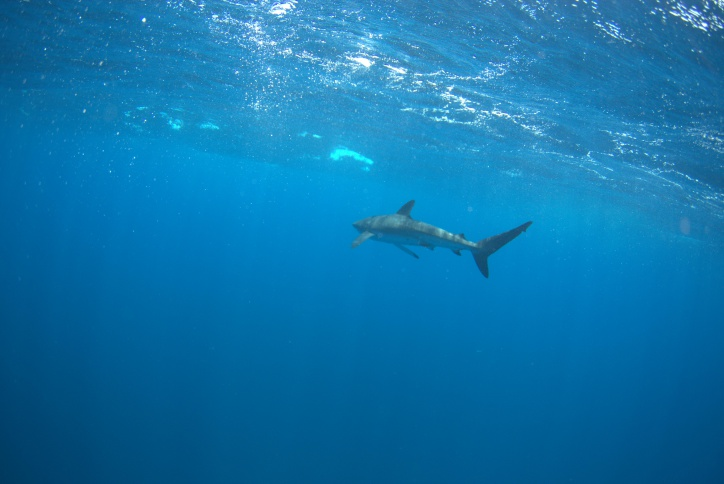Sedoso: (332, 194, 539, 282)
